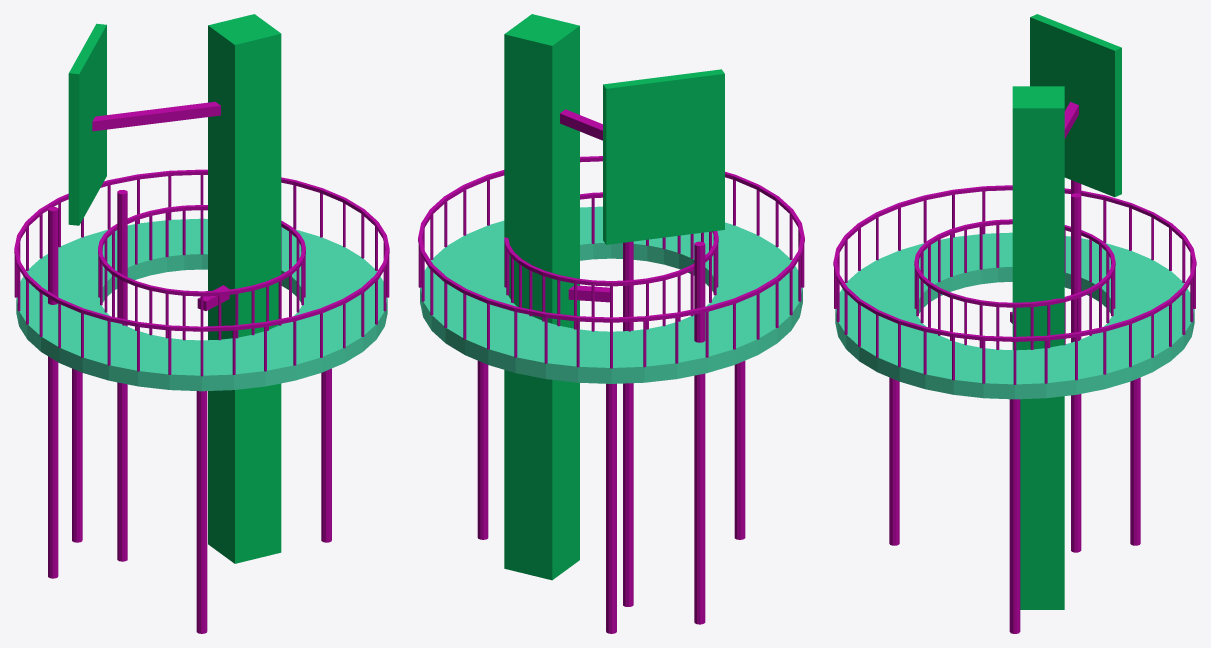
Rendered from folie_tag_001.glb.
The picture shows the model from 3 angles, left to right: view 1: azimuth 30°, elevation 25°; view 2: azimuth 150°, elevation 25°; view 3: azimuth 270°, elevation 25°; orthographic projection. The views are drawn at different scales.
Visible parts, largest first — view 1: folie_tag_001_core, folie_tag_001_00_ring, folie_tag_001_line, folie_tag_001_01_panel; view 2: folie_tag_001_core, folie_tag_001_00_ring, folie_tag_001_line, folie_tag_001_01_panel; view 3: folie_tag_001_00_ring, folie_tag_001_line, folie_tag_001_core, folie_tag_001_01_panel.
Boxes of the visible parts, <box> form: folie_tag_001_core: <box>208,14,281,563</box>; folie_tag_001_00_ring: <box>16,218,387,391</box>; folie_tag_001_line: <box>14,101,389,633</box>; folie_tag_001_01_panel: <box>68,23,106,225</box>; folie_tag_001_core: <box>504,14,579,580</box>; folie_tag_001_00_ring: <box>420,206,802,383</box>; folie_tag_001_line: <box>418,109,804,633</box>; folie_tag_001_01_panel: <box>603,69,724,244</box>; folie_tag_001_00_ring: <box>835,232,1194,399</box>; folie_tag_001_line: <box>833,102,1196,633</box>; folie_tag_001_core: <box>1012,86,1064,609</box>; folie_tag_001_01_panel: <box>1030,14,1121,197</box>.
Size of the model in its own units: 7.68 by 11.71 by 7.68.
